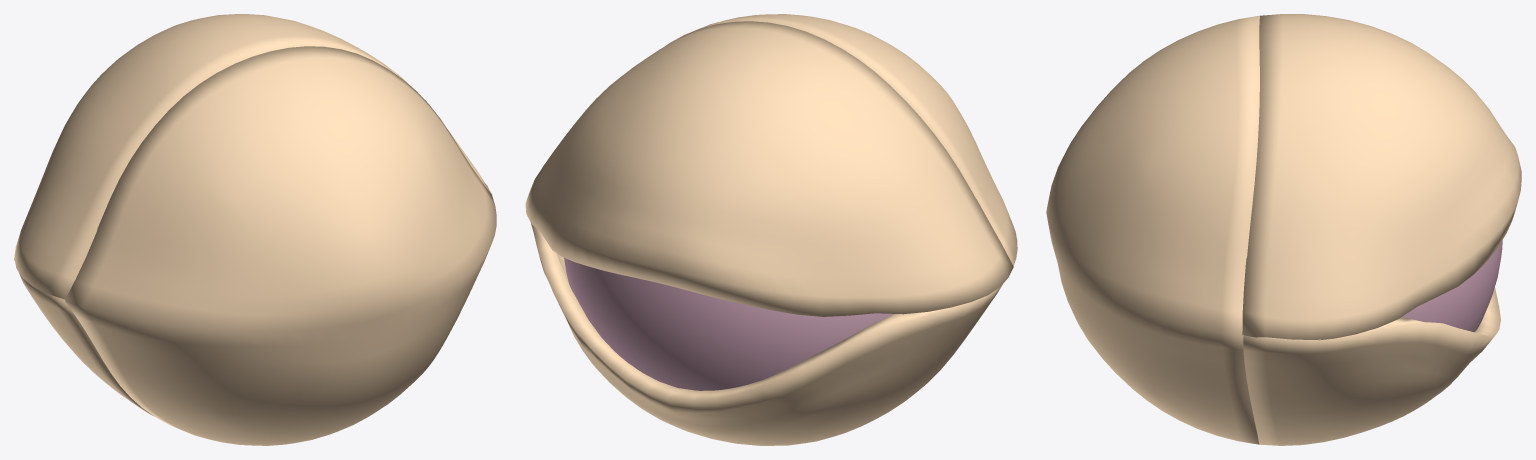
The model's file is eye.fbx.
The picture shows the model from 3 angles, left to right: view 1: azimuth 30°, elevation 25°; view 2: azimuth 150°, elevation 25°; view 3: azimuth 270°, elevation 25°; orthographic projection. The views are drawn at different scales.
Visible parts, largest first — view 1: eyeball, eyelid_top, eyelid_bottom; view 2: eyelid_top, eyeball, eyelid_bottom; view 3: eyelid_top, eyeball, eyelid_bottom.
Part boxes in pixels (x1,y1,x2,y2): eyeball: (65,46,496,445); eyelid_top: (14,14,492,299); eyelid_bottom: (14,184,488,415); eyelid_top: (525,21,1013,316); eyeball: (564,14,1017,390); eyelid_bottom: (531,223,1002,445); eyelid_top: (1242,14,1521,340); eyeball: (1046,15,1502,444); eyelid_bottom: (1243,287,1500,445).
Bounding box in the file's own units: 21.22 × 17.52 × 19.19.
